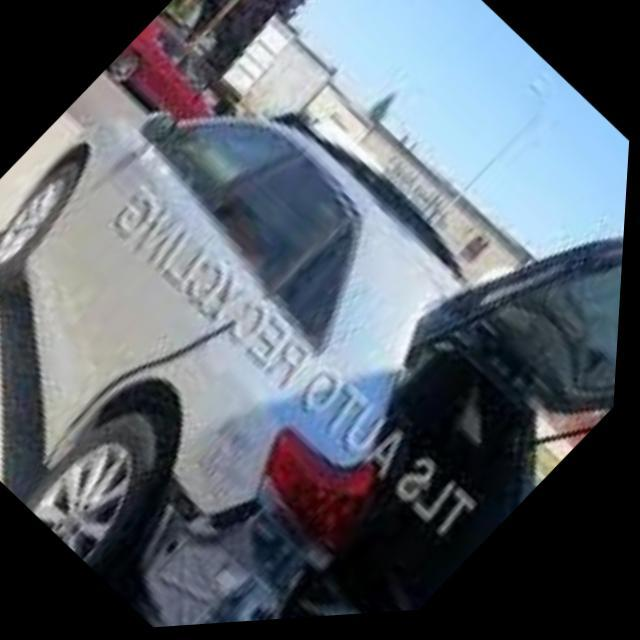no part: (140, 466, 512, 630)
